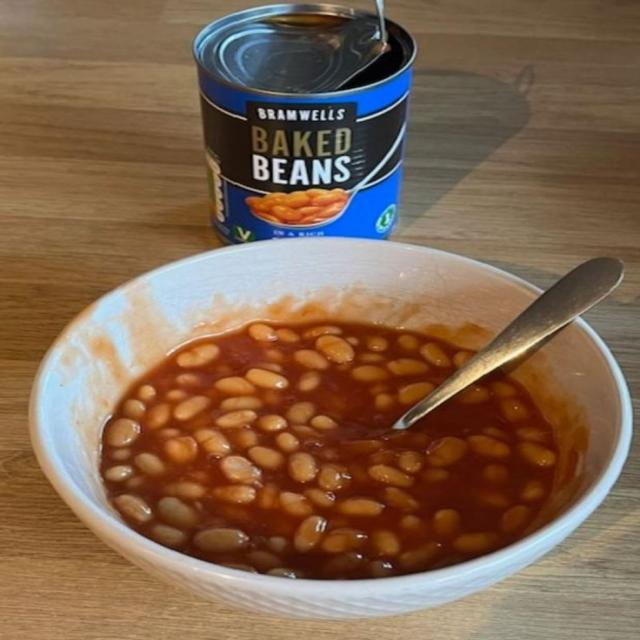beans: (101, 321, 559, 579), (194, 528, 249, 552), (157, 497, 198, 528), (427, 437, 468, 467), (294, 516, 326, 552), (321, 528, 366, 553), (399, 542, 439, 570), (220, 455, 260, 483), (315, 335, 354, 363), (114, 494, 153, 522), (176, 343, 219, 368), (324, 552, 366, 577), (194, 429, 231, 457), (368, 465, 413, 487), (467, 435, 510, 458), (517, 442, 556, 467), (452, 532, 498, 553), (106, 419, 140, 447), (164, 437, 198, 464), (288, 452, 318, 482), (338, 498, 384, 517), (174, 396, 210, 420), (247, 446, 284, 469), (500, 505, 530, 533), (246, 368, 288, 388), (151, 524, 186, 548), (212, 485, 256, 504), (383, 487, 419, 510), (280, 492, 313, 517), (399, 382, 434, 405), (215, 376, 255, 396), (215, 410, 257, 429), (371, 530, 401, 556), (433, 509, 460, 537), (318, 465, 347, 491), (420, 343, 451, 367), (165, 481, 206, 499), (134, 453, 166, 475), (247, 551, 282, 571), (294, 350, 329, 370), (387, 358, 428, 375), (500, 398, 529, 422), (145, 403, 171, 429), (220, 396, 262, 412), (456, 385, 490, 404), (351, 365, 389, 382), (343, 440, 383, 456), (287, 402, 315, 424), (477, 490, 510, 508), (231, 428, 258, 450), (303, 325, 342, 340), (256, 484, 279, 509), (398, 451, 424, 473), (305, 488, 335, 507), (103, 465, 134, 483), (520, 480, 545, 502), (248, 323, 278, 341), (482, 464, 508, 484), (258, 415, 287, 432), (298, 371, 321, 392), (122, 399, 146, 419), (516, 427, 548, 442), (275, 433, 299, 452), (420, 468, 450, 483), (349, 464, 370, 484), (310, 415, 338, 430), (368, 561, 394, 577), (490, 382, 516, 398), (400, 515, 425, 531), (267, 567, 301, 578), (154, 428, 182, 441), (291, 425, 319, 438), (374, 393, 394, 411), (262, 389, 283, 406), (267, 536, 288, 553), (453, 351, 474, 368), (397, 334, 419, 350), (482, 427, 509, 440), (175, 373, 202, 386), (222, 563, 257, 573), (137, 385, 156, 402), (276, 329, 299, 343), (367, 336, 388, 351), (165, 389, 188, 402), (109, 448, 132, 461), (257, 362, 284, 373), (265, 349, 286, 363), (369, 383, 391, 396), (358, 353, 385, 363), (125, 476, 145, 489), (346, 337, 359, 346)
